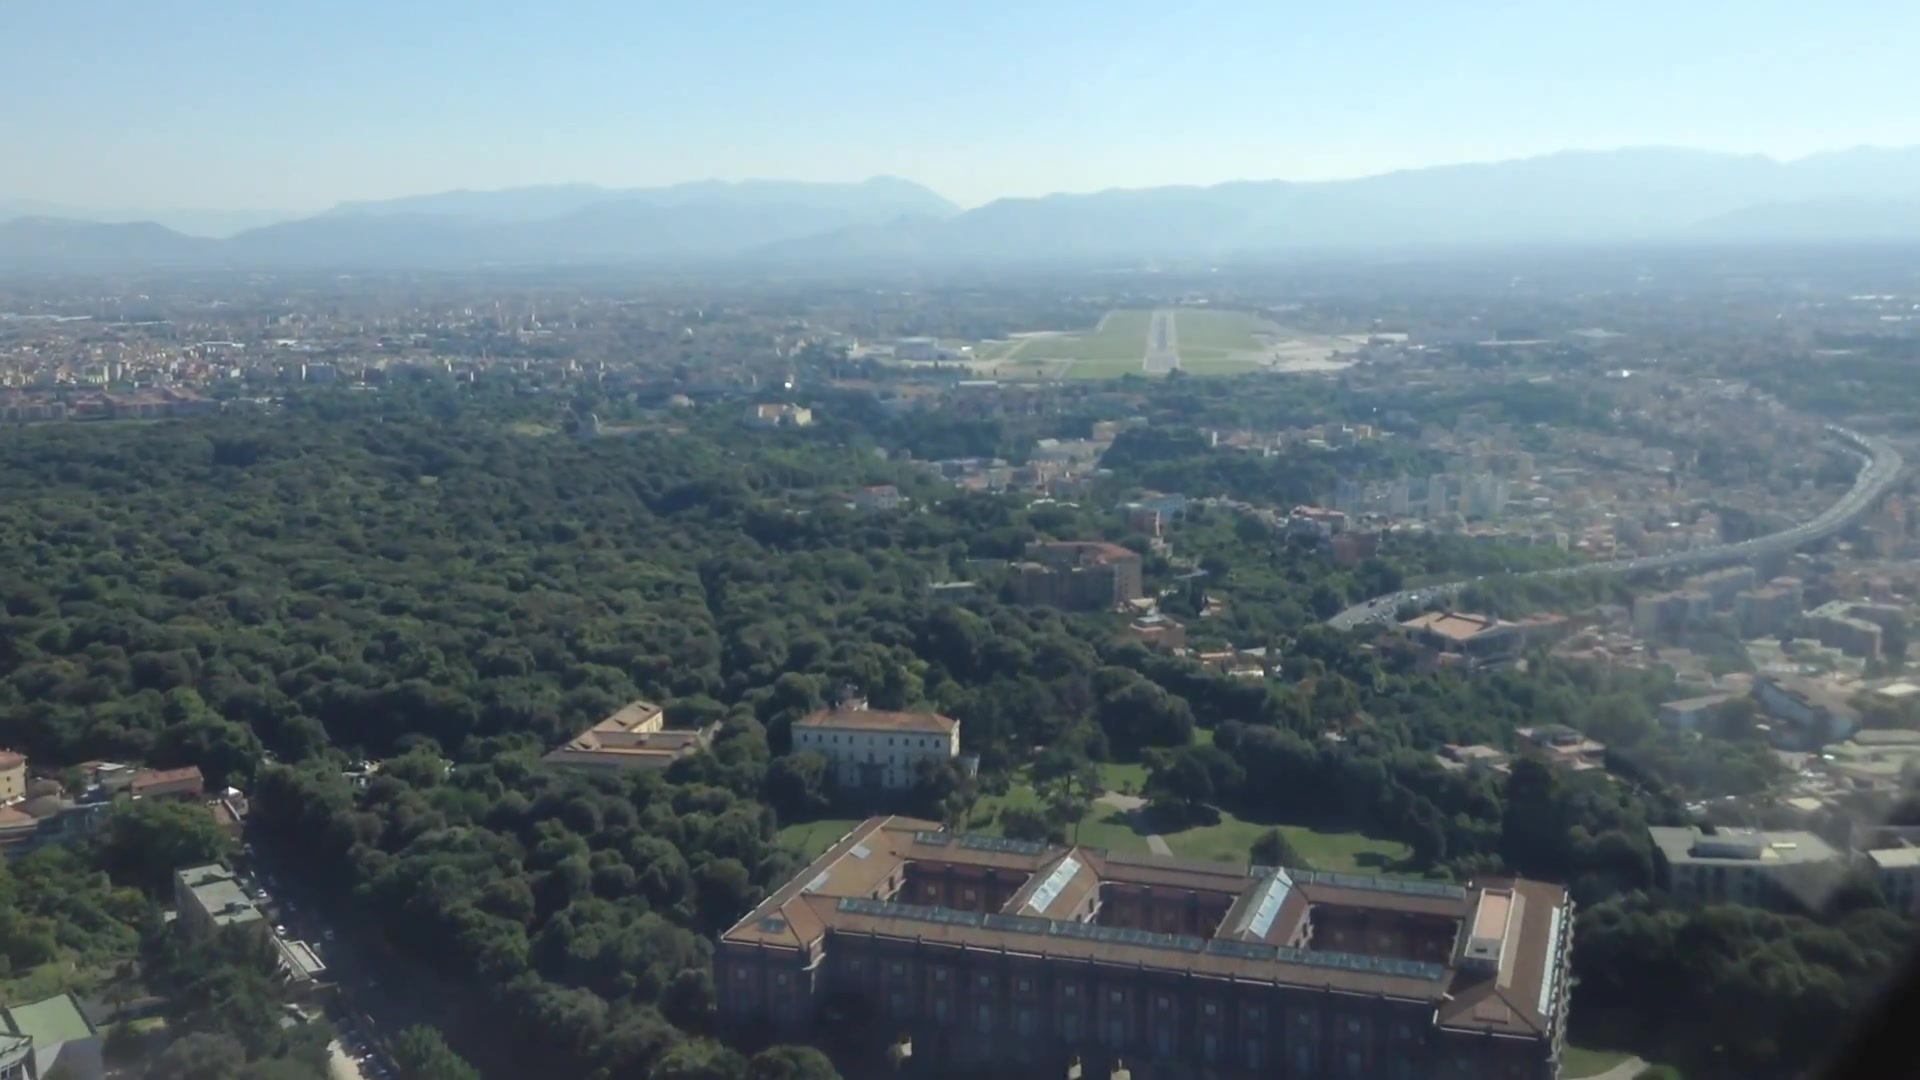runway: (1141, 310, 1180, 373)
